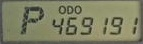1: (131, 16, 138, 35), (102, 17, 108, 35)
4: (51, 17, 64, 35)
6: (65, 16, 77, 35)
9: (79, 16, 94, 35), (109, 16, 123, 35)
X: (19, 6, 45, 35), (58, 5, 66, 14), (74, 5, 82, 14), (67, 5, 73, 14)
